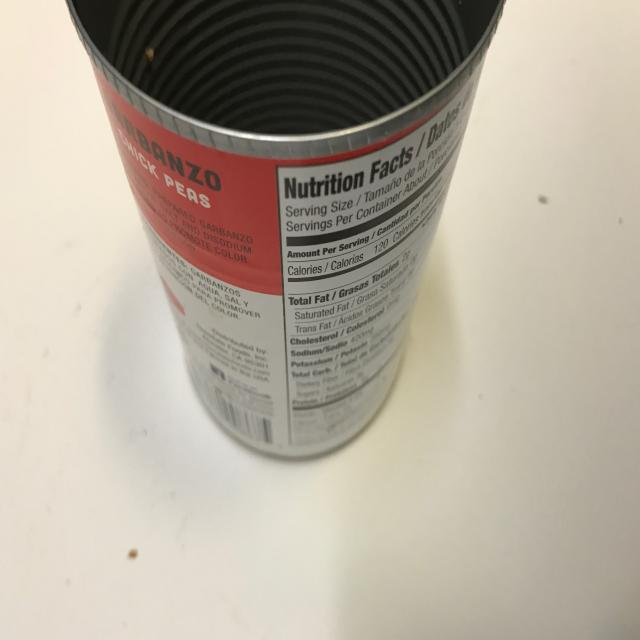metal: (63, 0, 506, 462)
